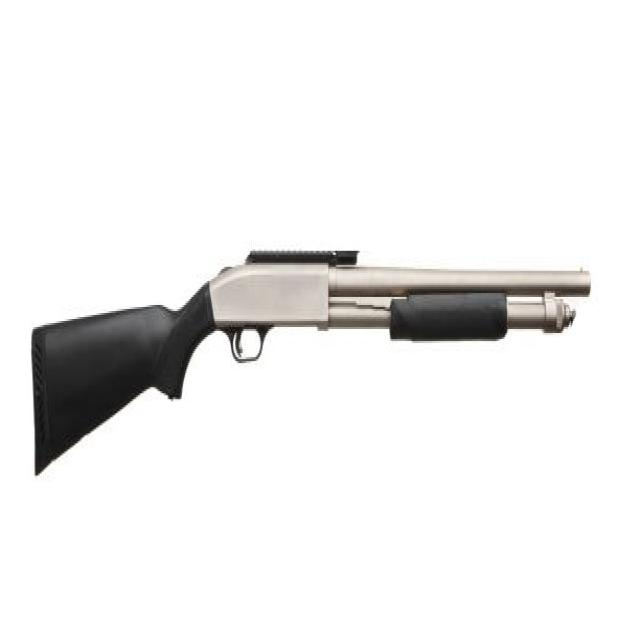rifle: (27, 242, 595, 483)
